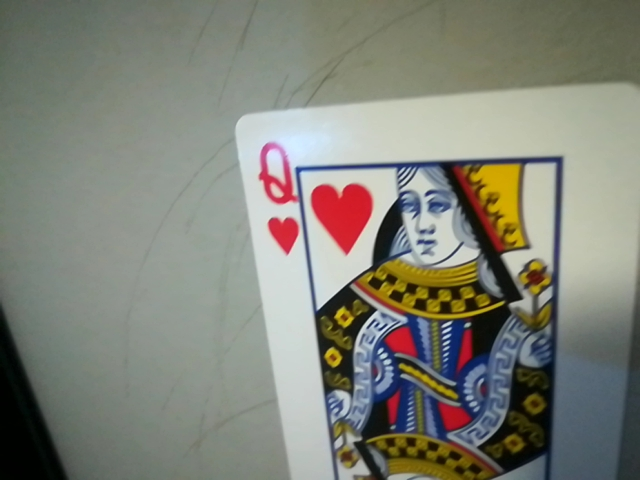hx q: (250, 130, 303, 260)
